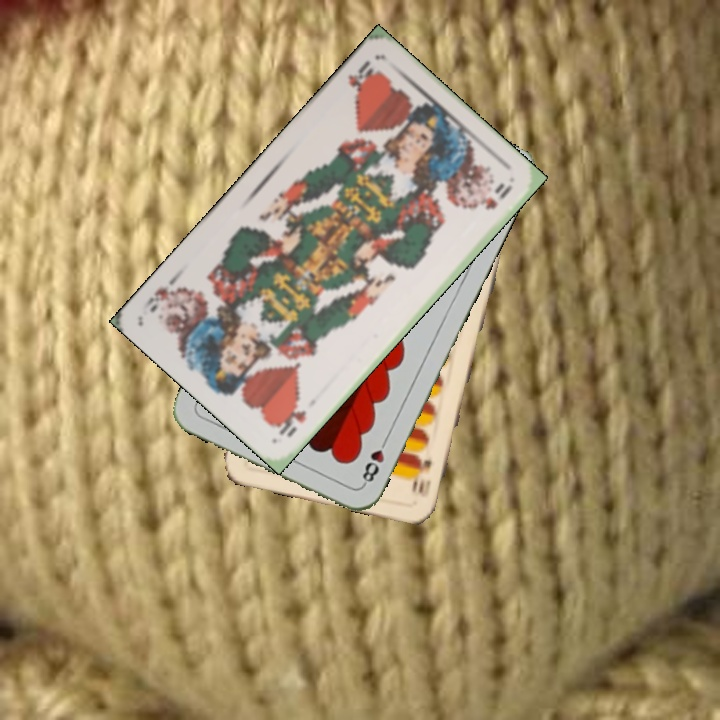E10: (414, 455, 435, 500)
H8: (358, 433, 391, 488)
HO: (343, 56, 381, 100), (274, 402, 309, 440)
